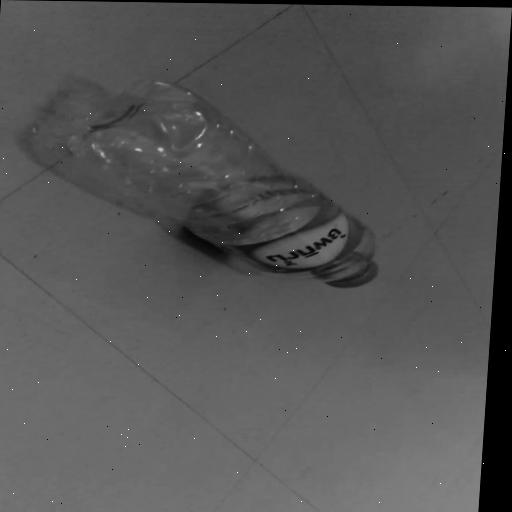bottle: (18, 77, 391, 287)
